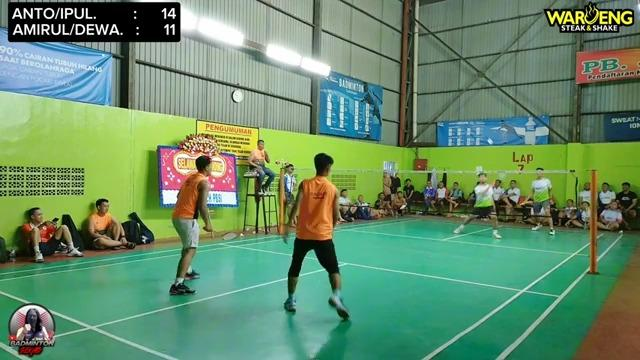Shuttlecock: (486, 137, 496, 147)
